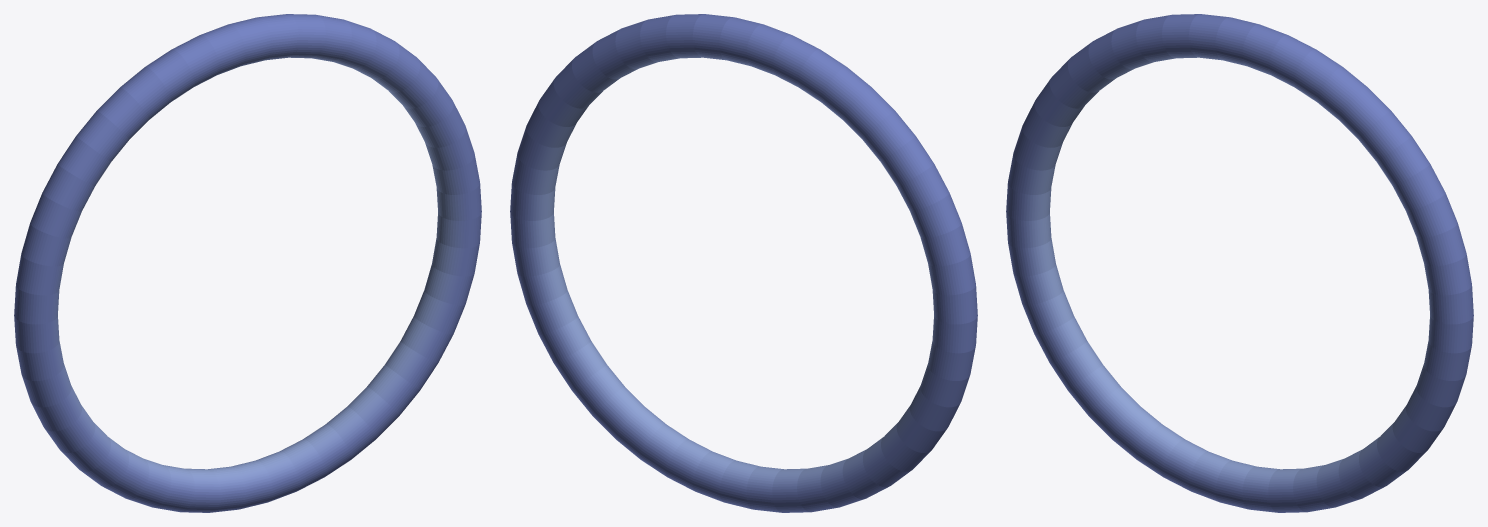
The picture shows the model from 3 angles, left to right: view 1: azimuth 30°, elevation 25°; view 2: azimuth 150°, elevation 25°; view 3: azimuth 330°, elevation 25°; orthographic projection.
Parts seen in each view (by area): view 1: world; view 2: world; view 3: world.
Part boxes in pixels (x1,y1,x2,y2): world: (14,14,481,512); world: (510,14,977,512); world: (1006,14,1473,512).
Size of the model in its own units: 27.6 by 27.55 by 2.26.
